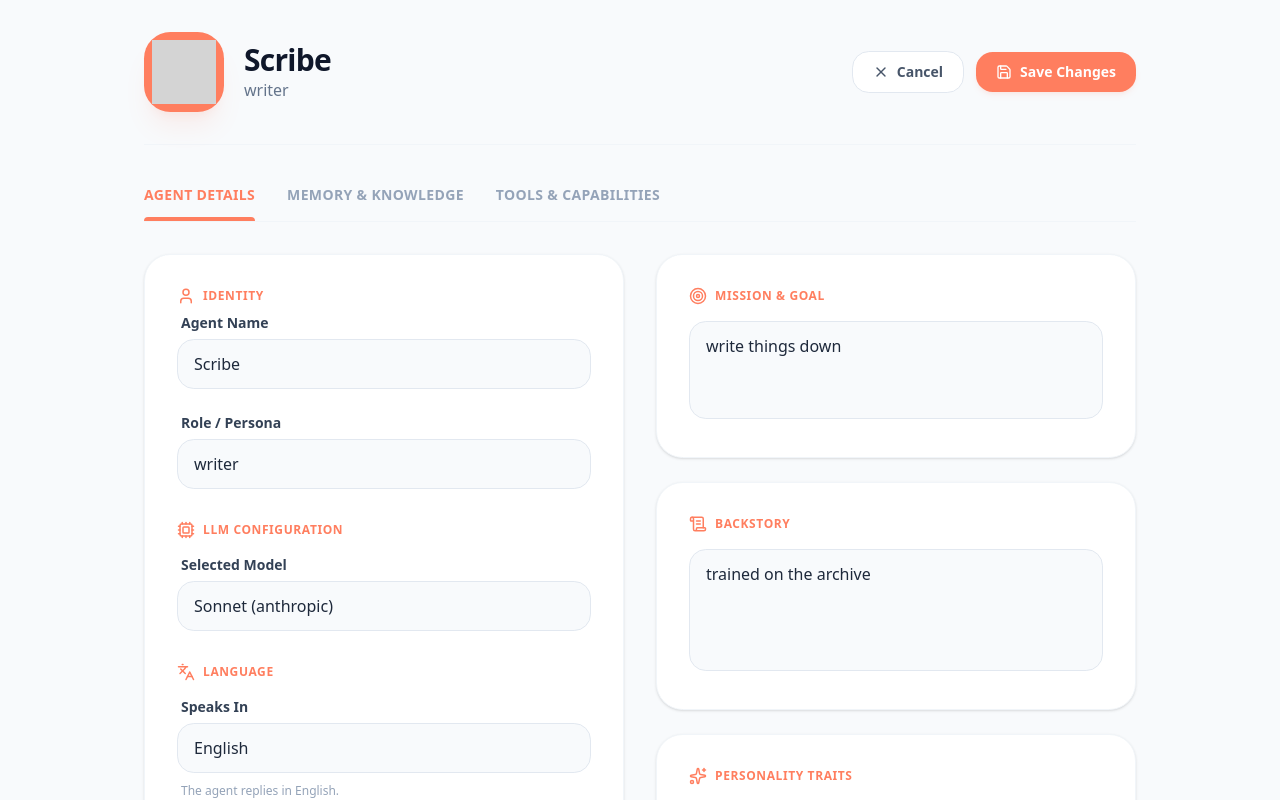
Test case: AgentEditForm › saving › says the save failed
expect the field showing "Scribe" is shown: met, box [177, 339, 591, 389]
Click the button "Save Changes". click: (1056, 72)
box: [976, 52, 1136, 92]
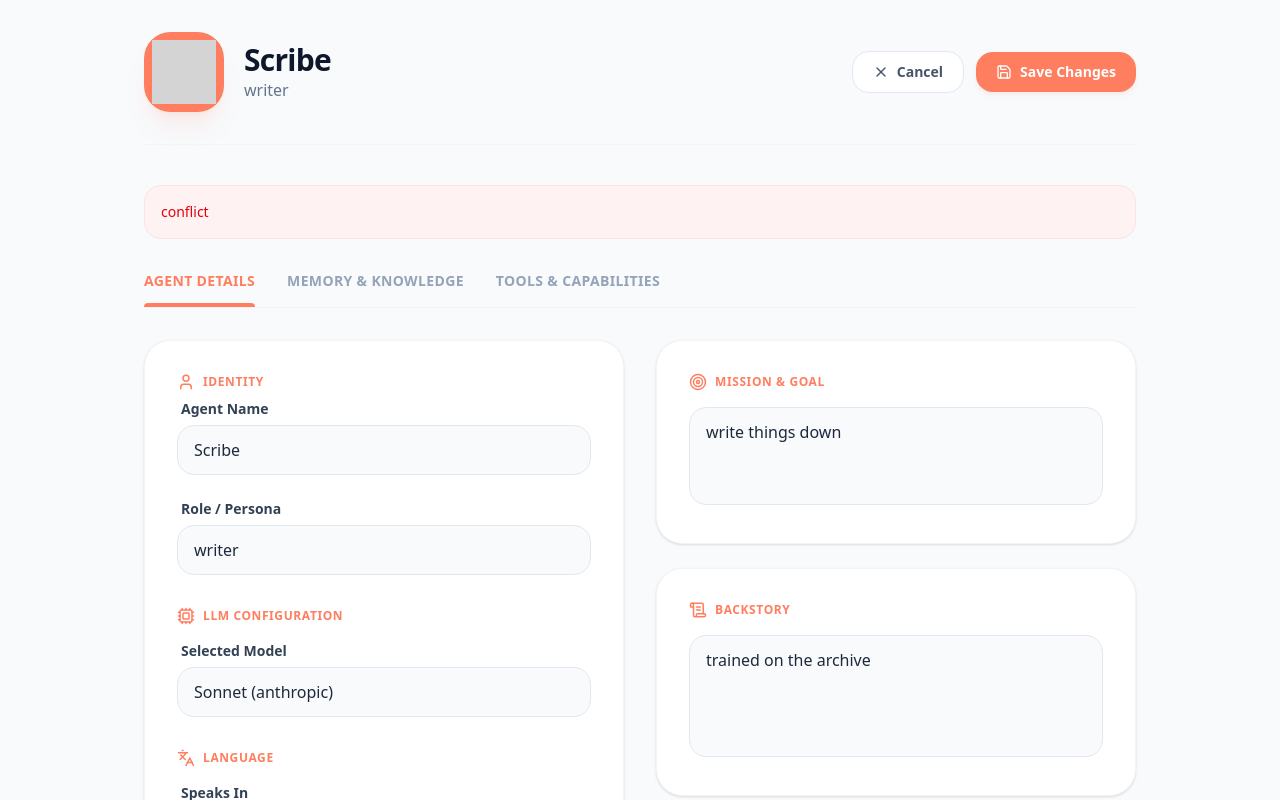
expect the message reads "conflict": met, box [161, 202, 209, 221]
